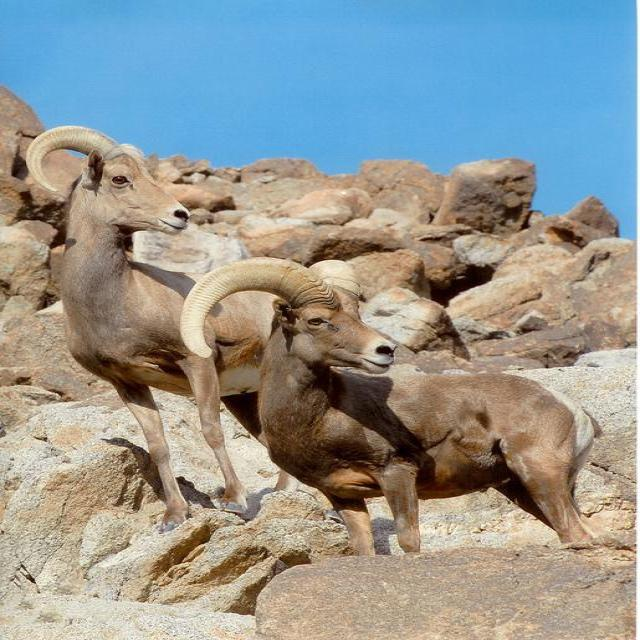Sheep: (188, 258, 605, 559), (22, 126, 297, 530)
